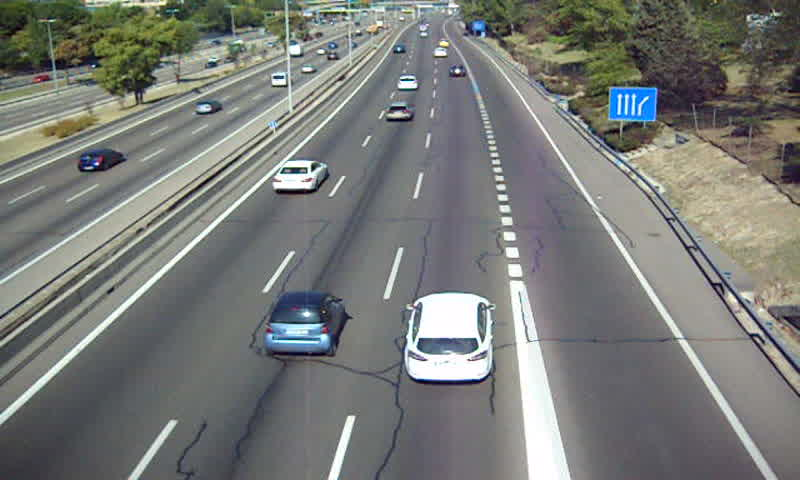car: (405, 293, 497, 380), (262, 291, 349, 357), (271, 158, 329, 192), (386, 100, 414, 121), (396, 74, 420, 91), (448, 64, 466, 76)
